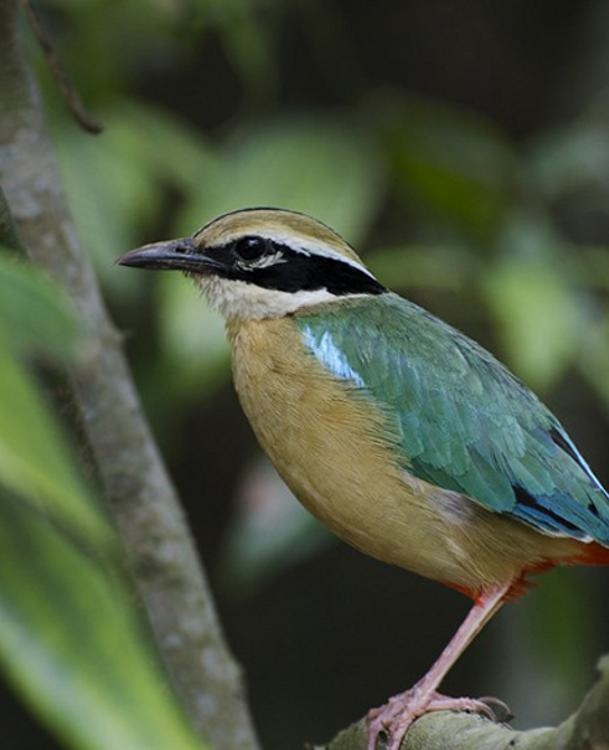pitta: (102, 192, 609, 699)
